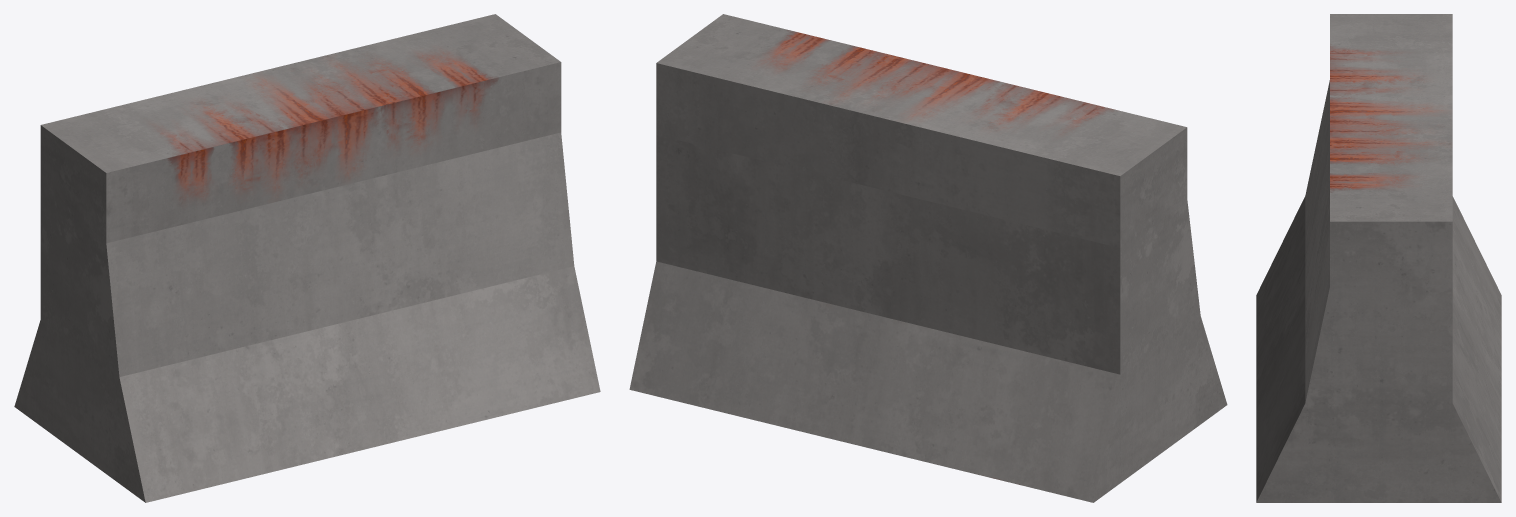
Rendered from roadblock_textured_finished.fbx.
3 views of the same model, side by side, from view 1: azimuth 30°, elevation 25°; view 2: azimuth 150°, elevation 25°; view 3: azimuth 270°, elevation 25° (orthographic). The views are drawn at different scales.
Parts seen in each view (by area): view 1: Cube; view 2: Cube; view 3: Cube.
Boxes of the visible parts, left/top/right/bottom form: Cube: left=14, top=14, right=600, bottom=502; Cube: left=629, top=14, right=1227, bottom=502; Cube: left=1256, top=14, right=1501, bottom=502.
Bounding box in the file's own units: 200 × 126 × 100.
